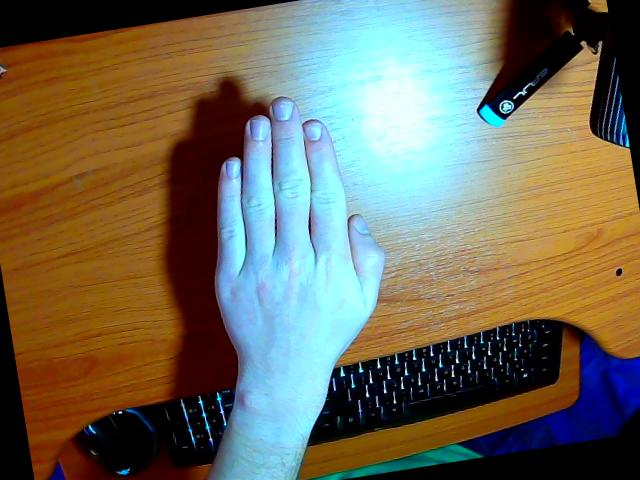paper: (205, 98, 383, 480)
